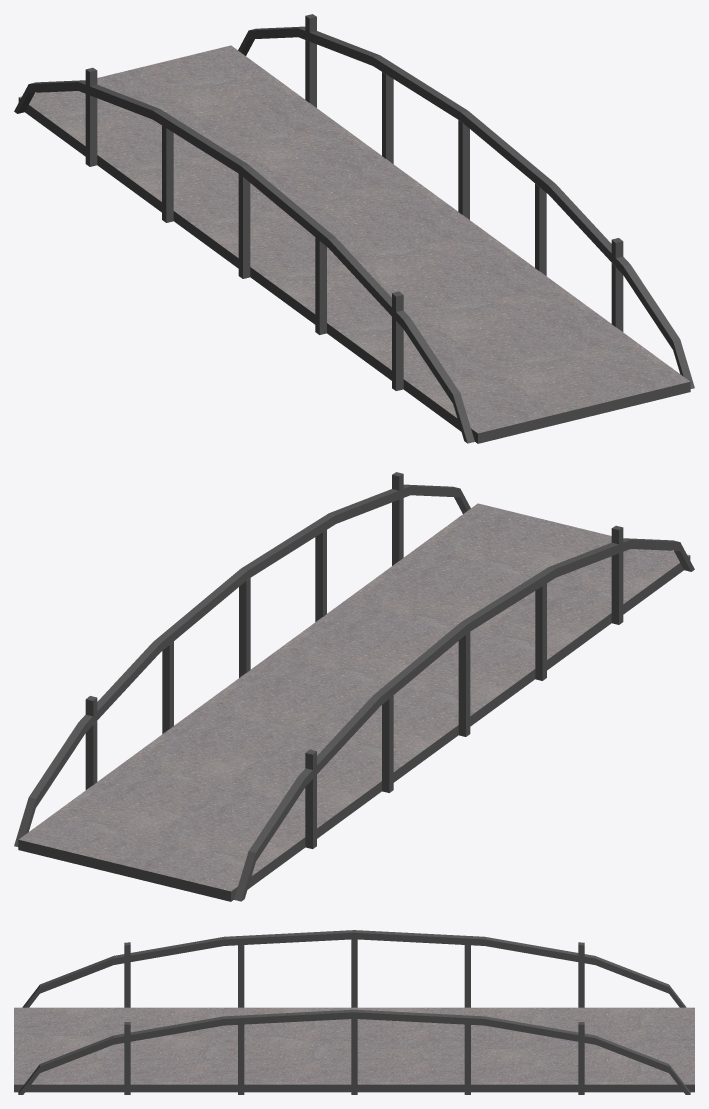
The model's file is bridge.obj.
3 views of the same model, one above another, from view 1: azimuth 30°, elevation 25°; view 2: azimuth 150°, elevation 25°; view 3: azimuth 270°, elevation 25° (orthographic). The views are drawn at different scales.
Visible parts, largest first — view 1: No_Name; view 2: No_Name; view 3: No_Name.
Part boxes in pixels (x1,y1,x2,y2): No_Name: (14,14,694,443); No_Name: (14,472,694,901); No_Name: (14,930,694,1094).
Size of the model in its own units: 8 by 3.75 by 28.
2 materials, 2 textured.
